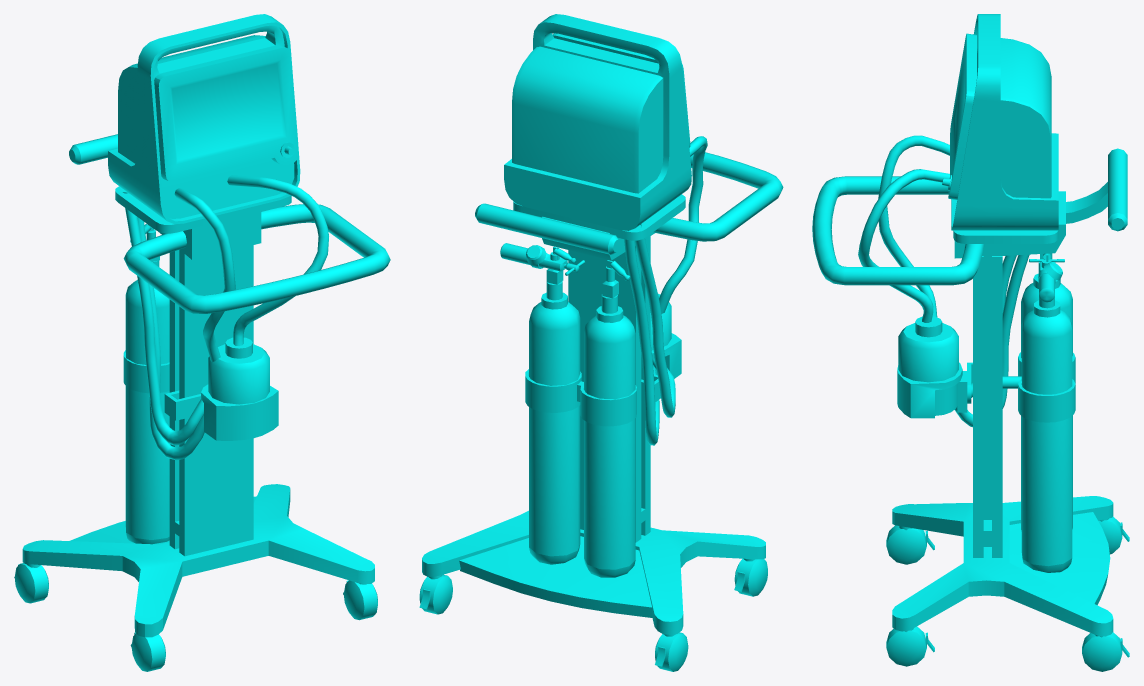
The model's file is SM_Monitor_01a.FBX.
The picture shows the model from 3 angles, left to right: view 1: azimuth 30°, elevation 25°; view 2: azimuth 150°, elevation 25°; view 3: azimuth 270°, elevation 25°; orthographic projection. The views are drawn at different scales.
Visible parts, largest first — view 1: SM_Monitor_01a_LOD0; view 2: SM_Monitor_01a_LOD0; view 3: SM_Monitor_01a_LOD0.
Boxes of the visible parts, x1,y1,x2,y2 form: SM_Monitor_01a_LOD0: (14,14,390,671); SM_Monitor_01a_LOD0: (419,14,783,671); SM_Monitor_01a_LOD0: (812,14,1129,671).
Size of what is drawn, in the model's own units: 65.15 by 136 by 68.47.
